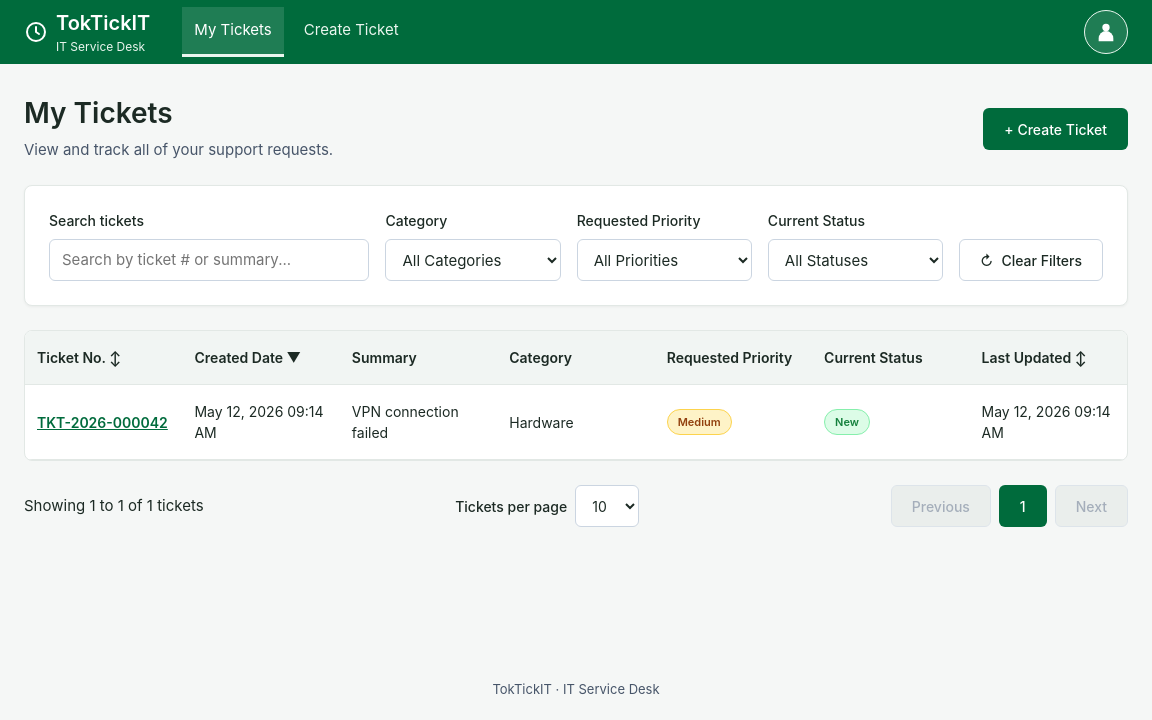
Test case: logout hides tickets and returns to login
Click the button named "Open profile menu" at coordinates (1106, 32), box [1084, 10, 1128, 54]
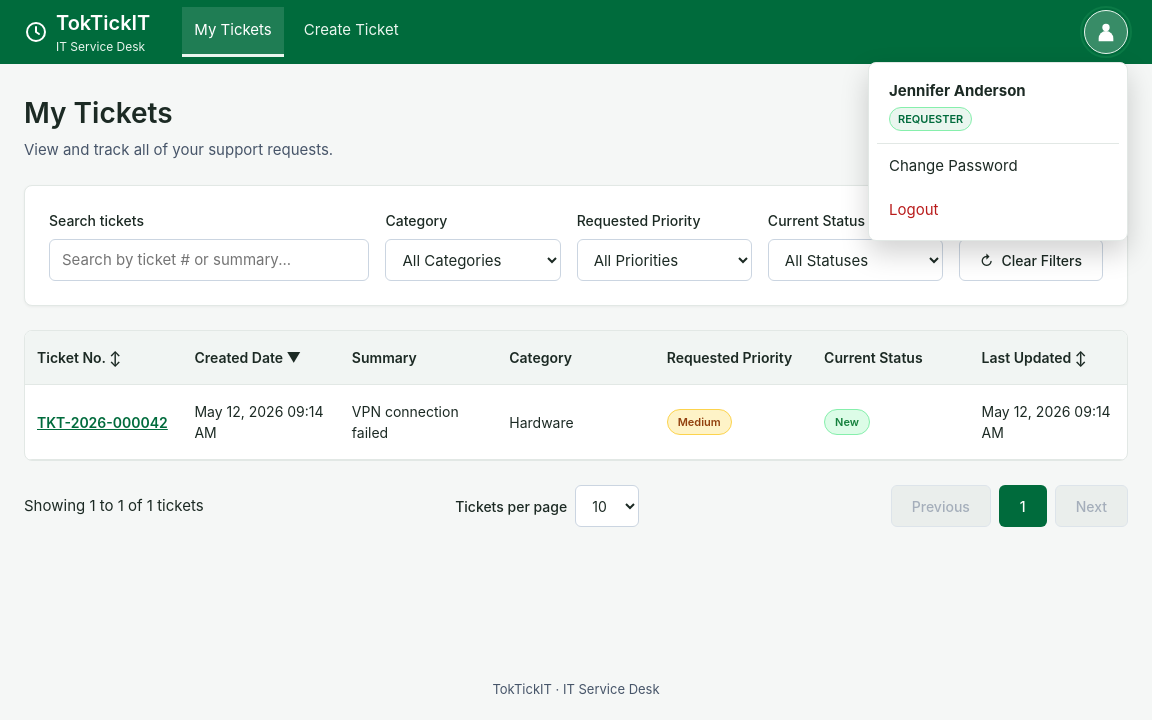
Click the menu item "Logout" at coordinates (998, 210), box [877, 188, 1119, 232]
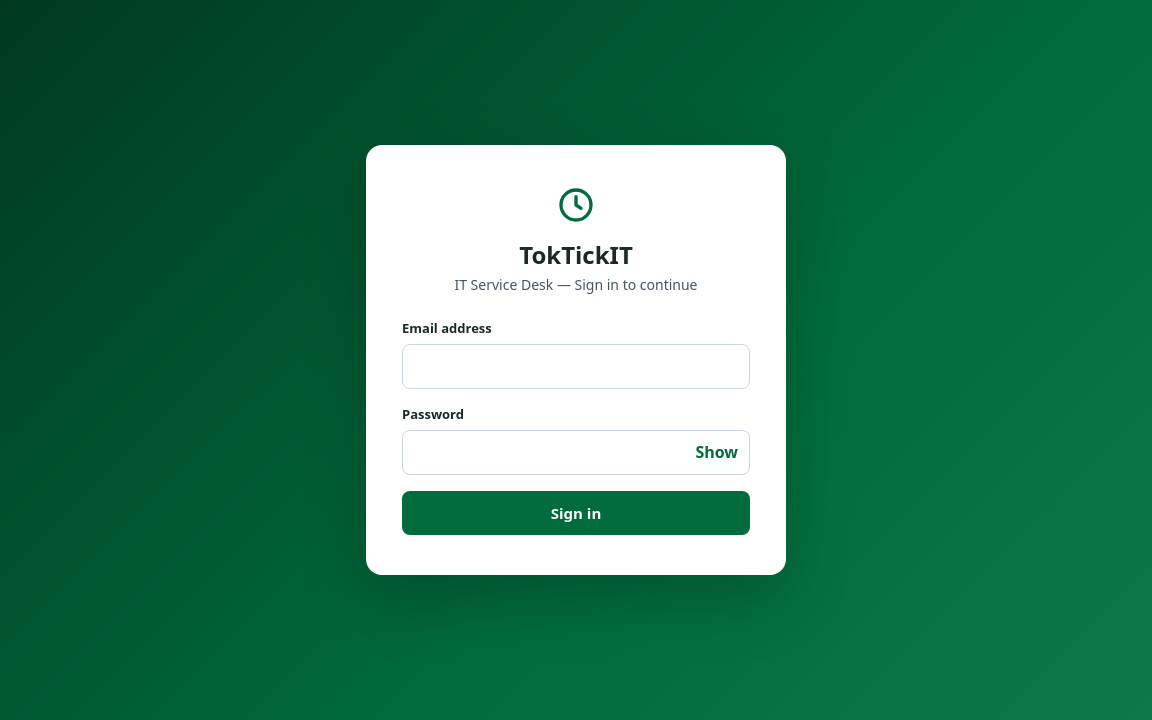
Expected: the button "Sign in" is shown, [402, 491, 750, 535]
Expected: the link "TKT-2026-000042" is gone
